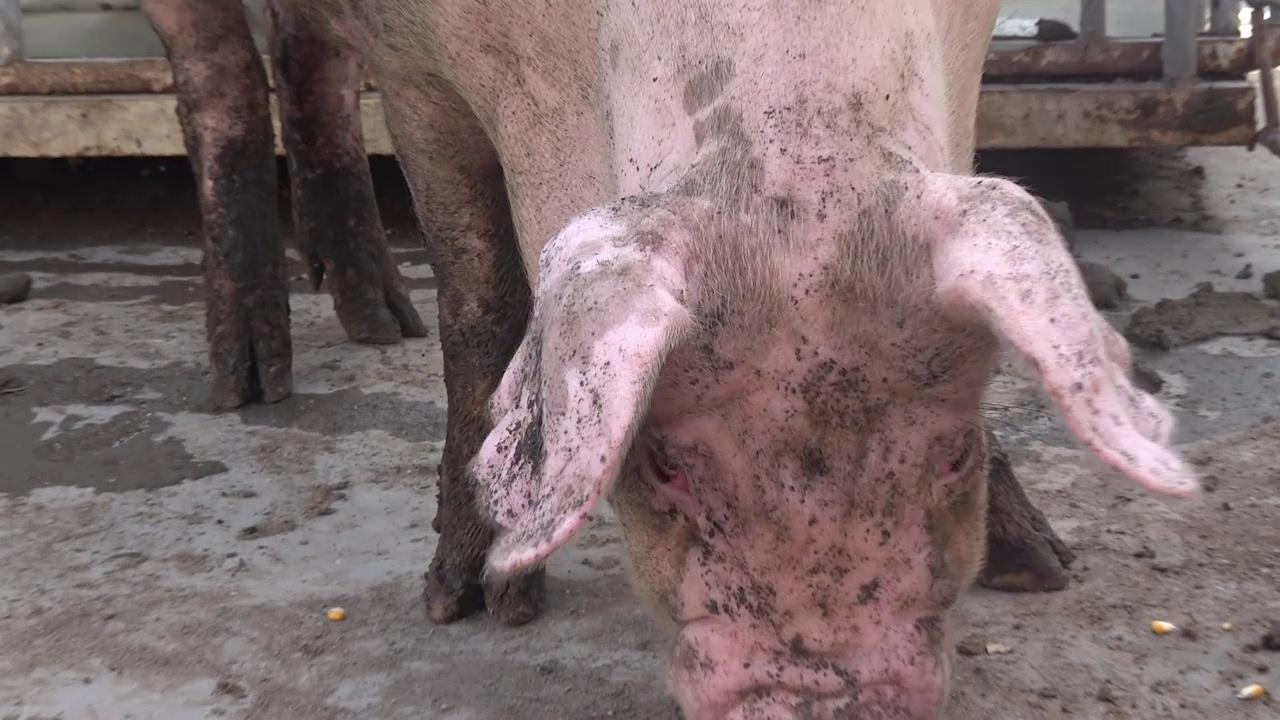Face: (455, 160, 1219, 720)
